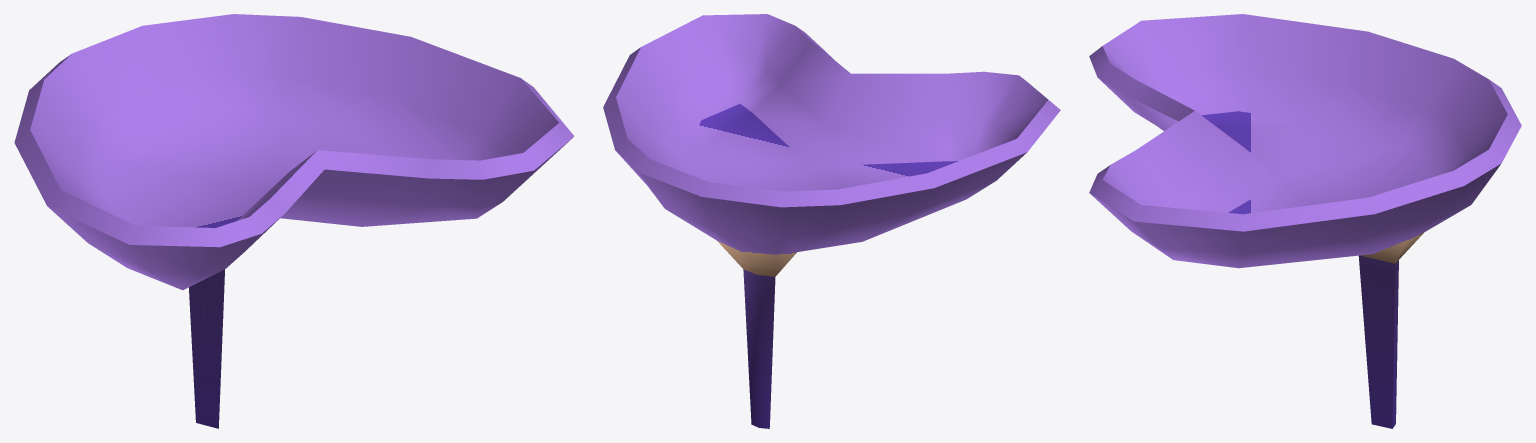
The model's file is D_CoralReef.160.glb.
3 renders of one model, left to right at view 1: azimuth 30°, elevation 25°; view 2: azimuth 150°, elevation 25°; view 3: azimuth 270°, elevation 25°, orthographic. The views are drawn at different scales.
Parts seen in each view (by area): view 1: D_CoralReef.160; view 2: D_CoralReef.160; view 3: D_CoralReef.160.
Part boxes in pixels (x1,y1,x2,y2): D_CoralReef.160: (14, 14, 574, 428); D_CoralReef.160: (603, 14, 1060, 428); D_CoralReef.160: (1089, 14, 1521, 428).
Size of the model in its own units: 0.5007 by 0.3454 by 0.4319.
1 material, 1 textured.
